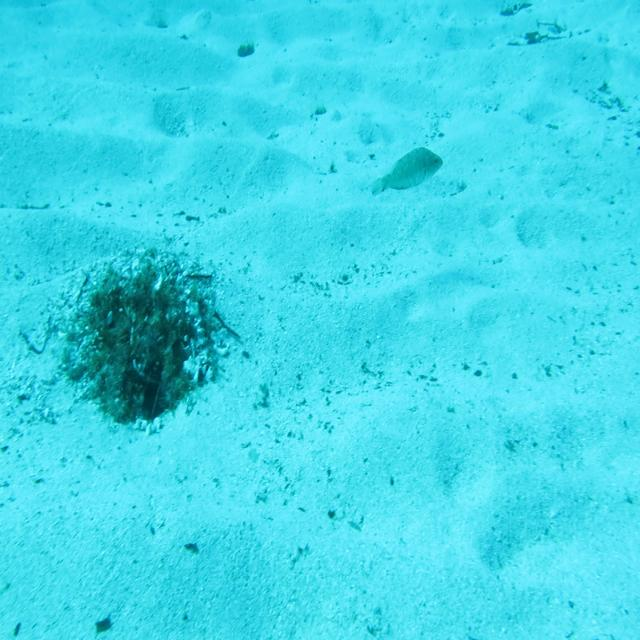SA: (366, 140, 446, 207)
nest: (54, 253, 220, 438)
